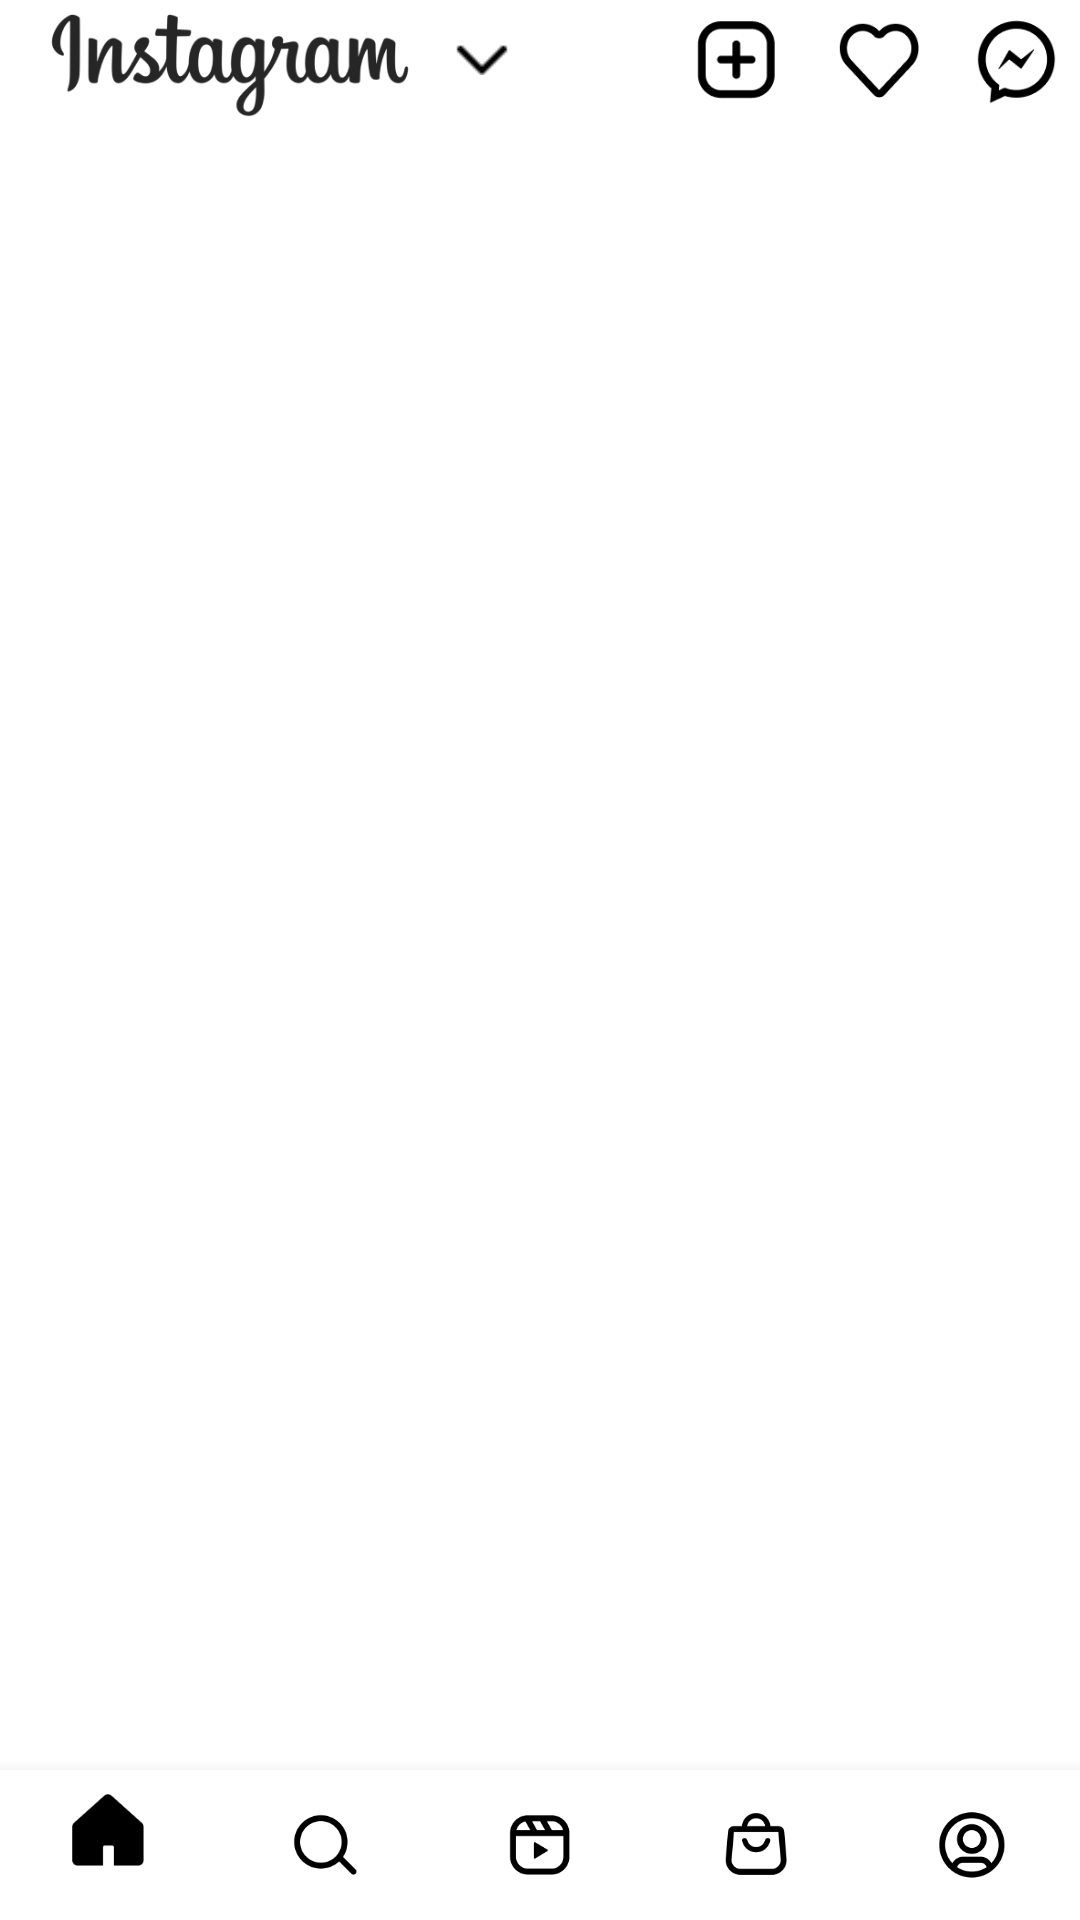

Named icons in this screenshot (1080w x 1920h) and their centers, (x=x, y=y):
add: (x=736, y=60)
like: (x=879, y=60)
